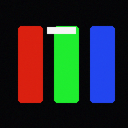3 line_h: (47, 27, 75, 33)
